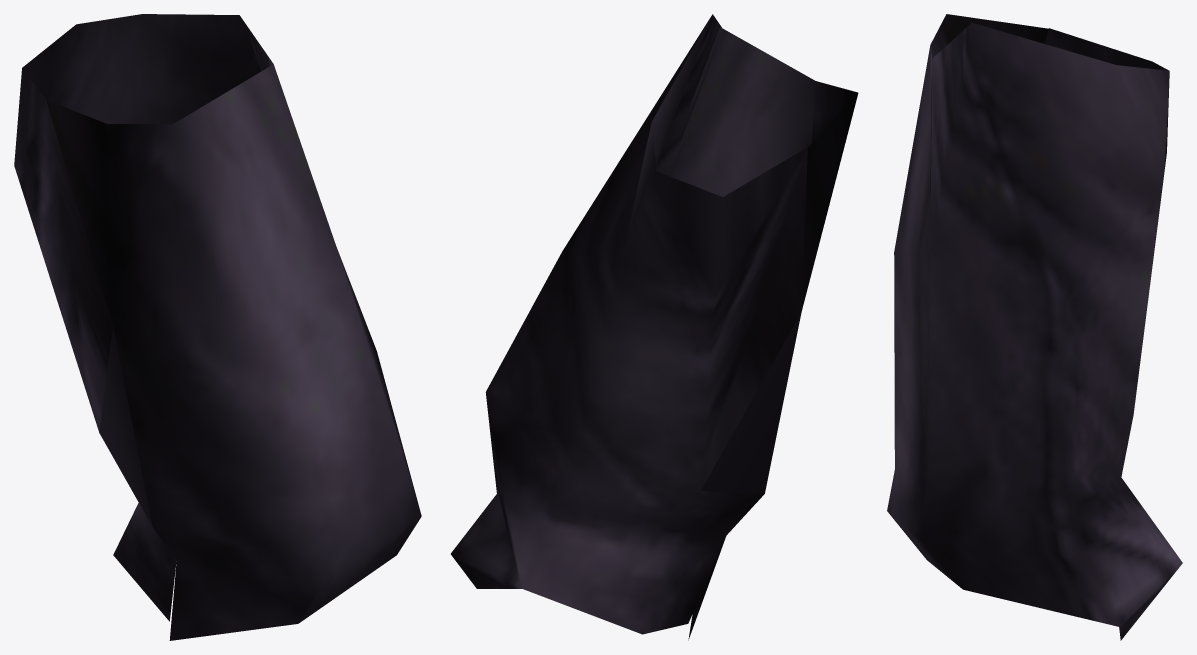
Rendered from Cloud_legL.obj.
The picture shows the model from 3 angles, left to right: view 1: azimuth 30°, elevation 25°; view 2: azimuth 150°, elevation 25°; view 3: azimuth 270°, elevation 25°; orthographic projection. The views are drawn at different scales.
Visible parts, largest first — view 1: 0001_r_sym307; view 2: 0001_r_sym307; view 3: 0001_r_sym307.
Boxes of the visible parts, <box> form: 0001_r_sym307: <box>14,14,421,640</box>; 0001_r_sym307: <box>451,14,858,640</box>; 0001_r_sym307: <box>887,14,1182,640</box>.
Bounding box in the file's own units: 0.1795 × 0.3153 × 0.1472.
Materials: 1 (1 with a texture image).
